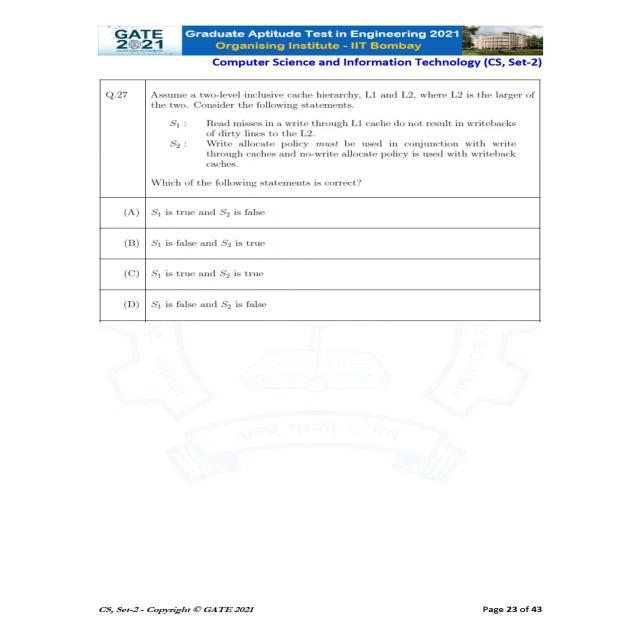Answer_Block: (56, 207, 602, 338)
Question_Answer_Block: (56, 69, 602, 338)
Question_Block: (56, 69, 602, 203)
Question_Paper_Area: (56, 69, 602, 403)
